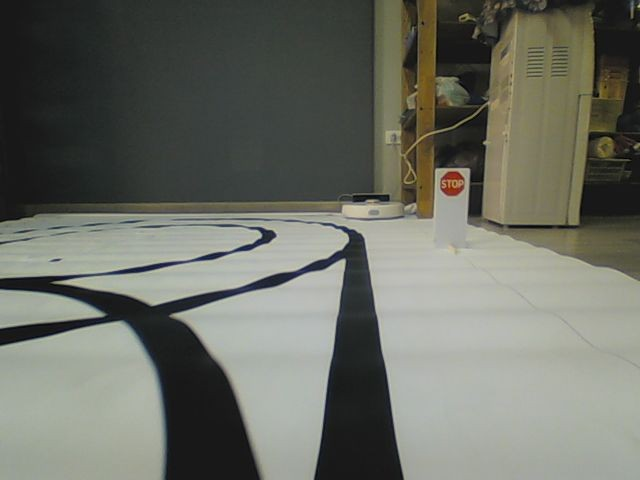Stop: (438, 170, 466, 197)
